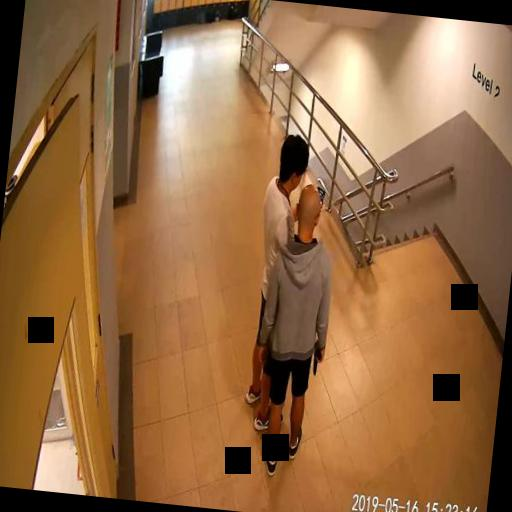Handgun: (310, 340, 324, 374)
